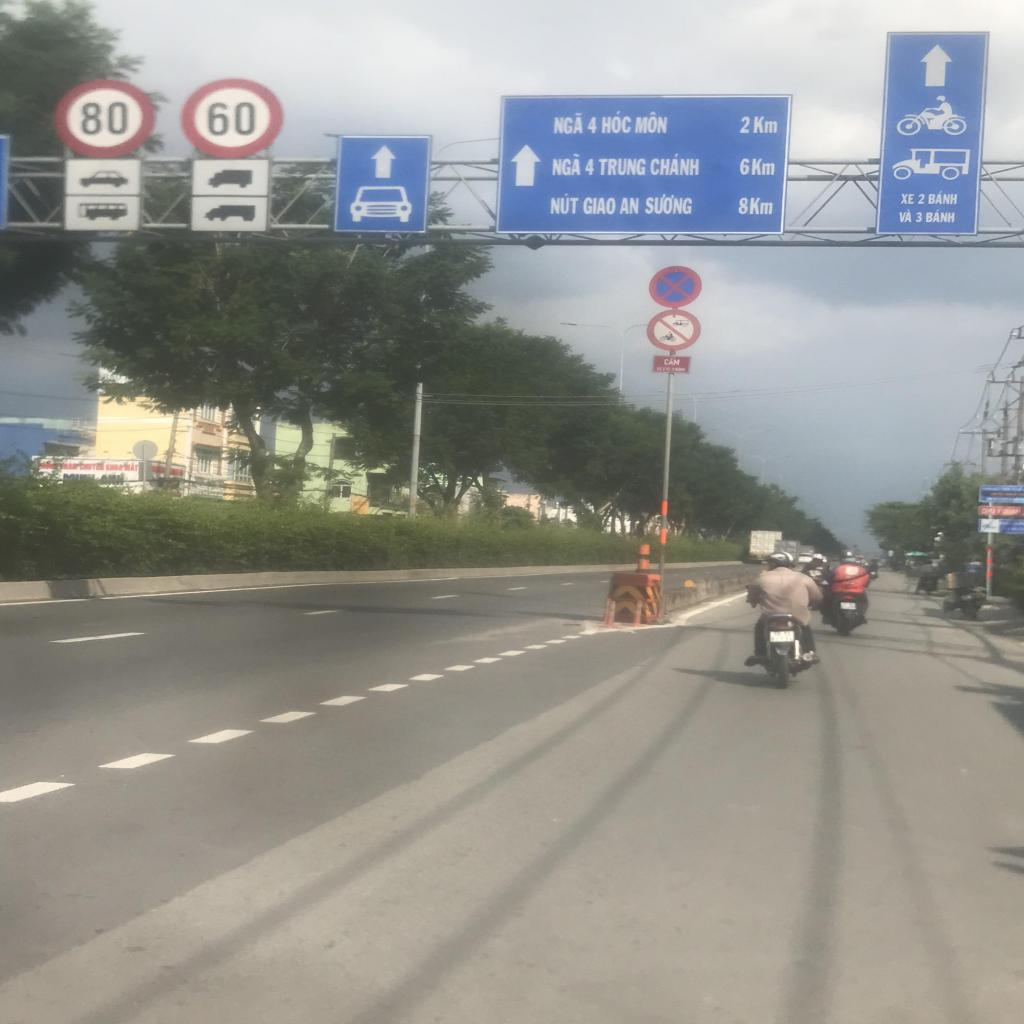cam_dung_xe_va_do_xe: (649, 265, 701, 309)
cam_xe_2_banh_va_xe_3_banh_co_dong_co: (646, 308, 701, 351)
duong_cho_xe_o_to: (335, 136, 430, 232)
khac: (496, 97, 790, 232), (877, 34, 985, 234), (62, 159, 142, 196), (191, 160, 269, 196), (190, 196, 268, 231), (63, 195, 139, 230)
toc_do_toi_da_60: (182, 78, 283, 158)
toc_do_toi_da_80: (55, 79, 154, 158)
